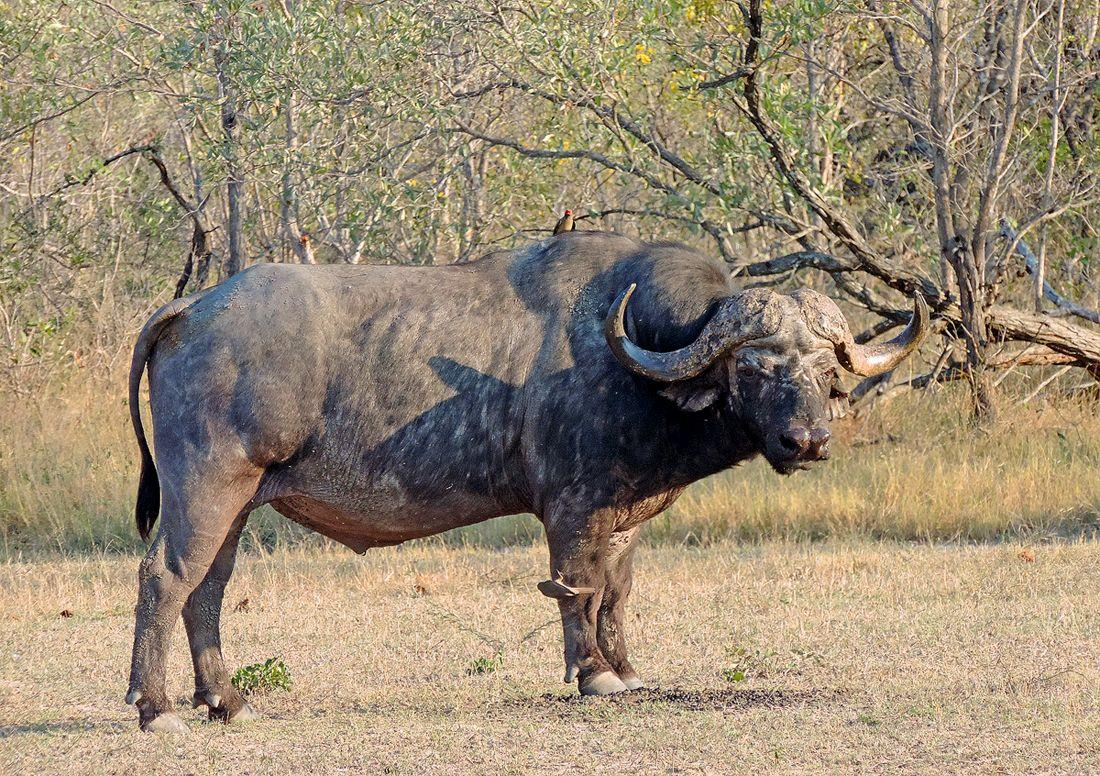Buffalo: (36, 121, 986, 776)
